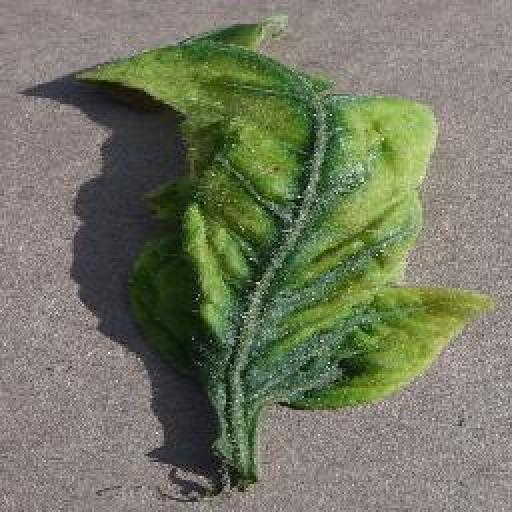disease_tomato: (75, 11, 492, 413)
